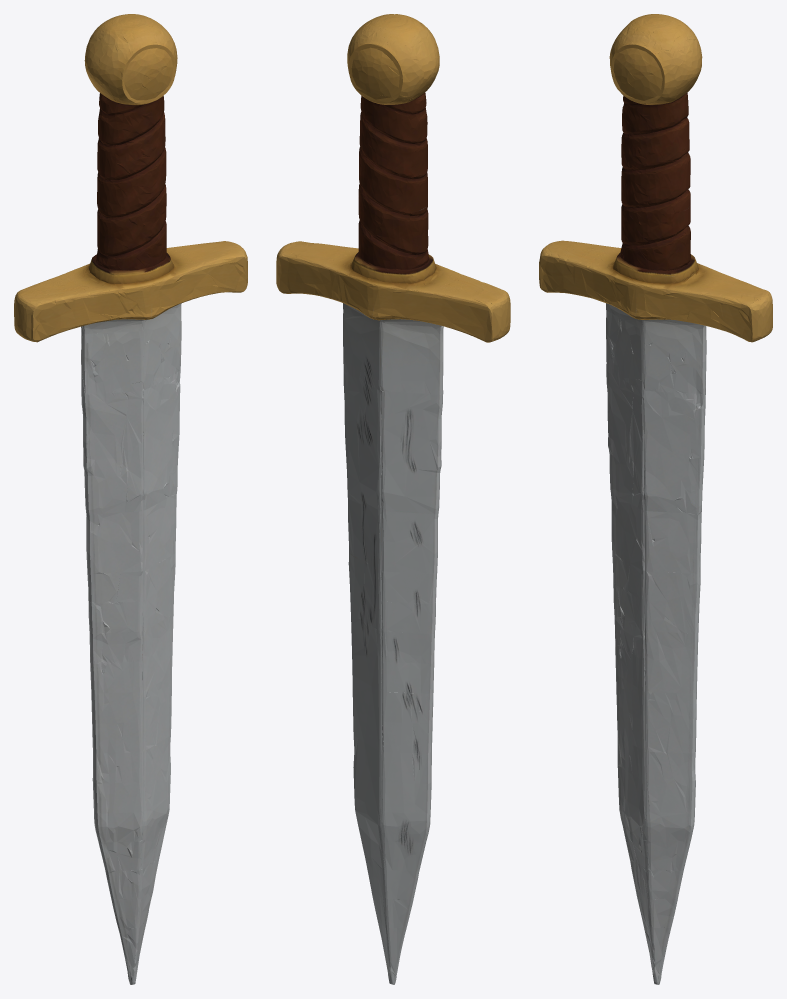
Rendered from sword-optimized.glb.
3 views of the same model, side by side, from view 1: azimuth 30°, elevation 25°; view 2: azimuth 150°, elevation 25°; view 3: azimuth 330°, elevation 25° (orthographic).
Visible parts, largest first — view 1: world; view 2: world; view 3: world.
Boxes of the visible parts, x1,y1,x2,y2 form: world: (14, 14, 247, 984); world: (276, 14, 510, 984); world: (539, 14, 772, 984).
Bounding box in the file's own units: 0.2451 × 0.9995 × 0.0771.
1 material, 1 textured.
